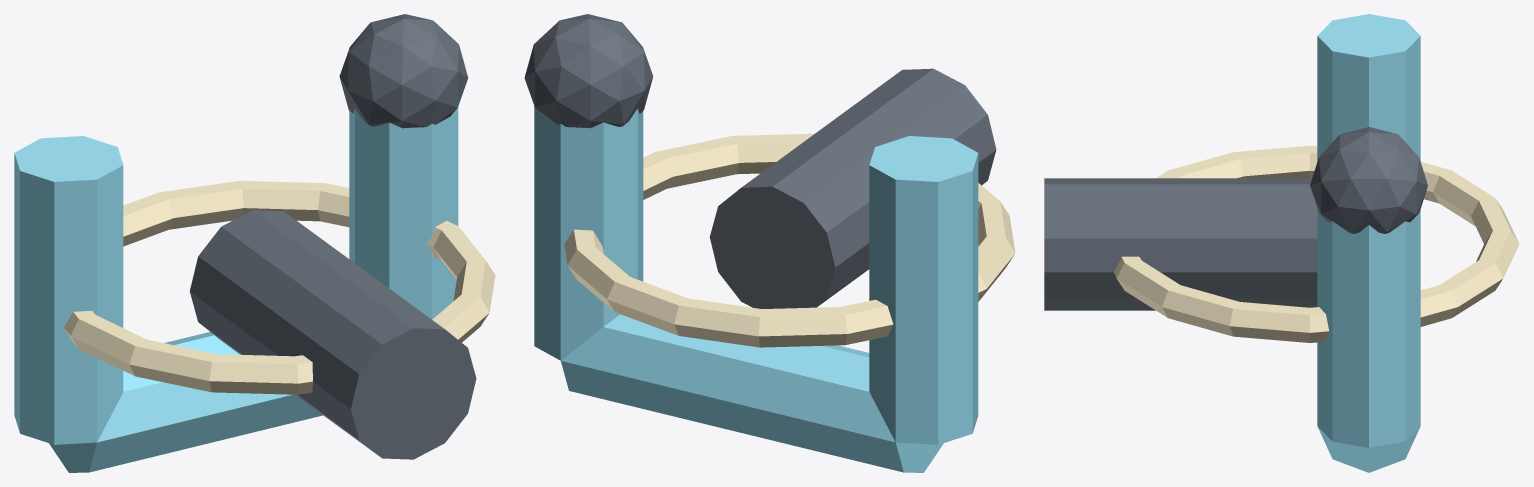
File: iman_4.glb
3 renders of one model, left to right at view 1: azimuth 30°, elevation 25°; view 2: azimuth 150°, elevation 25°; view 3: azimuth 270°, elevation 25°, orthographic. The views are drawn at different scales.
Parts seen in each view (by area): view 1: mango, herradura_izq, bobina, herradura_der, herradura_base, polo; view 2: herradura_izq, mango, herradura_base, bobina, herradura_der, polo; view 3: mango, herradura_der, bobina, herradura_izq, polo, herradura_base.
Boxes of the visible parts, x1,y1,x2,y2 form: mango: (189,210,476,459); herradura_izq: (14,136,123,444); bobina: (63,180,495,394); herradura_der: (349,107,458,319); herradura_base: (49,332,322,472); polo: (339,14,468,128); herradura_izq: (869,136,978,444); mango: (709,68,996,308); herradura_base: (561,314,943,472); bobina: (564,133,1015,347); herradura_der: (534,106,643,360); polo: (524,14,653,128); mango: (1044,178,1317,310); herradura_der: (1317,209,1420,447); bobina: (1114,145,1519,342); herradura_izq: (1317,14,1420,161); polo: (1310,127,1427,233); herradura_base: (1318,426,1420,472).
Size of the model in its own units: 0.8804 by 0.7127 by 0.9.
